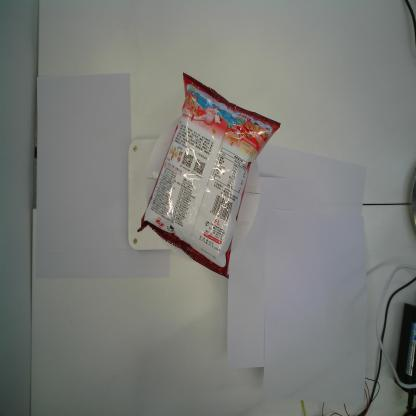Puffed Food: (136, 72, 281, 278)
